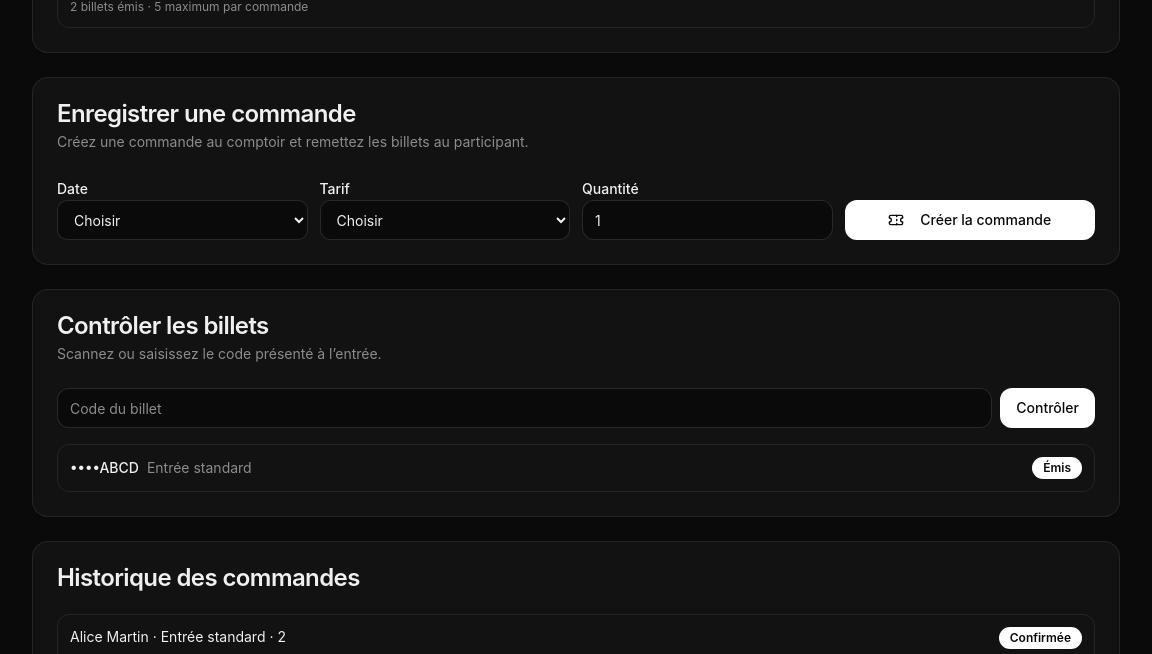
Test case: EventsPage › contrôle un billet depuis le code saisi
(page scrolled)
Type "00000000ABCD" into the field with placeholder "Code du billet" at {"x": 525, "y": 408}, box [57,388,992,428]
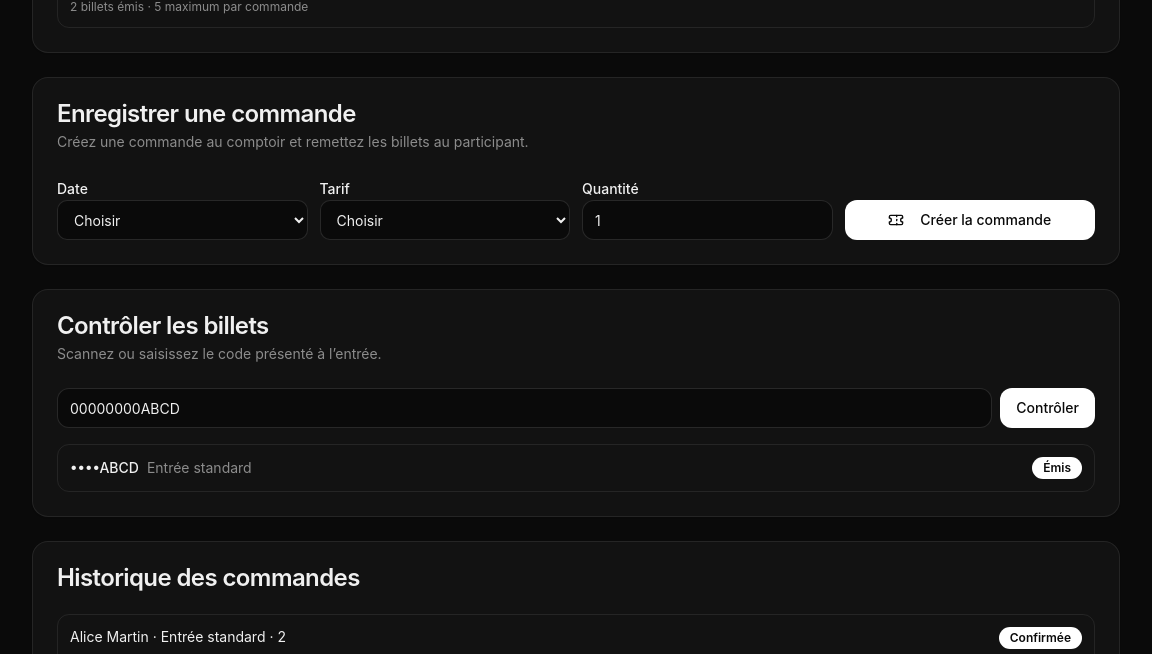
Click the button "Contrôler" at {"x": 1048, "y": 408}, box [1000,388,1095,428]
(page scrolled)
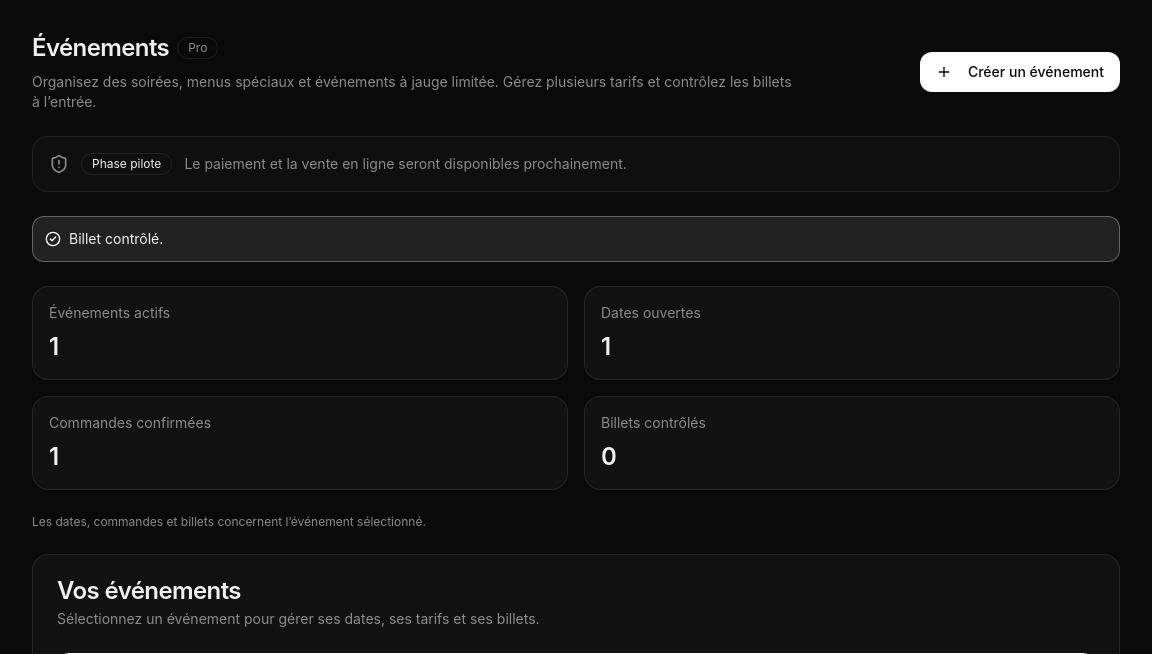
Expected: the text "Billet contrôlé." is shown, [69,229,163,249]
